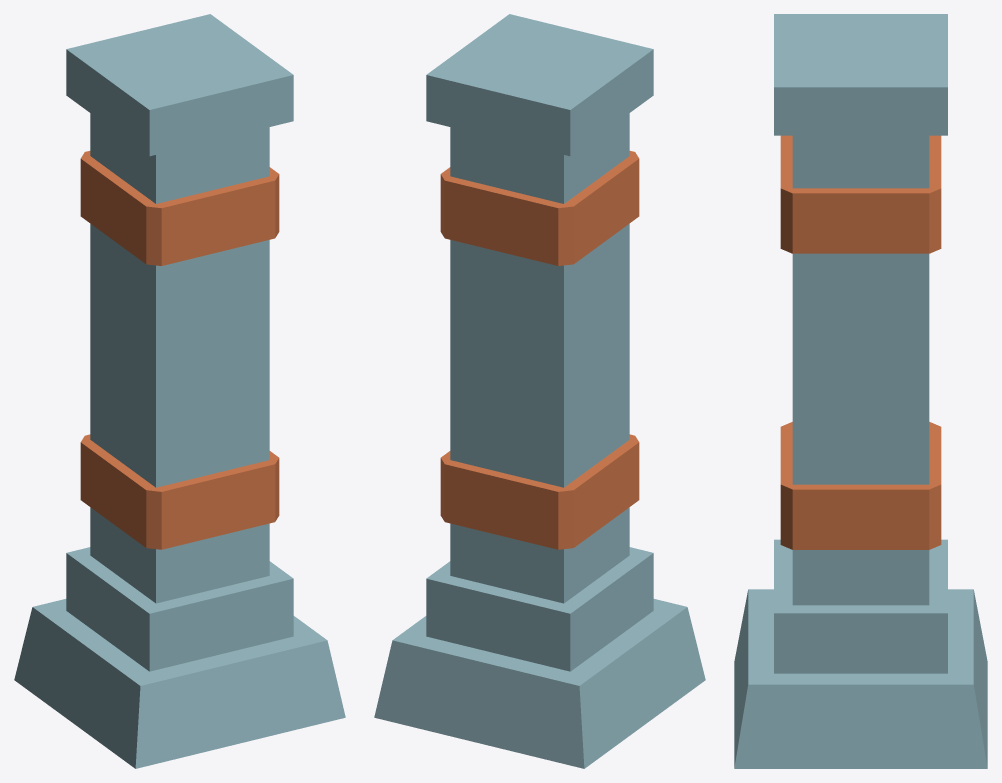
File: columnLarge.fbx
3 renders of one model, left to right at view 1: azimuth 30°, elevation 25°; view 2: azimuth 150°, elevation 25°; view 3: azimuth 270°, elevation 25°, orthographic. The views are drawn at different scales.
Visible parts, largest first — view 1: columnLarge; view 2: columnLarge; view 3: columnLarge.
Boxes of the visible parts, left/top/right/bottom form: columnLarge: left=14, top=14, right=345, bottom=768; columnLarge: left=374, top=14, right=705, bottom=768; columnLarge: left=734, top=14, right=987, bottom=768.
Bounding box in the file's own units: 3.8 × 11 × 3.8.
